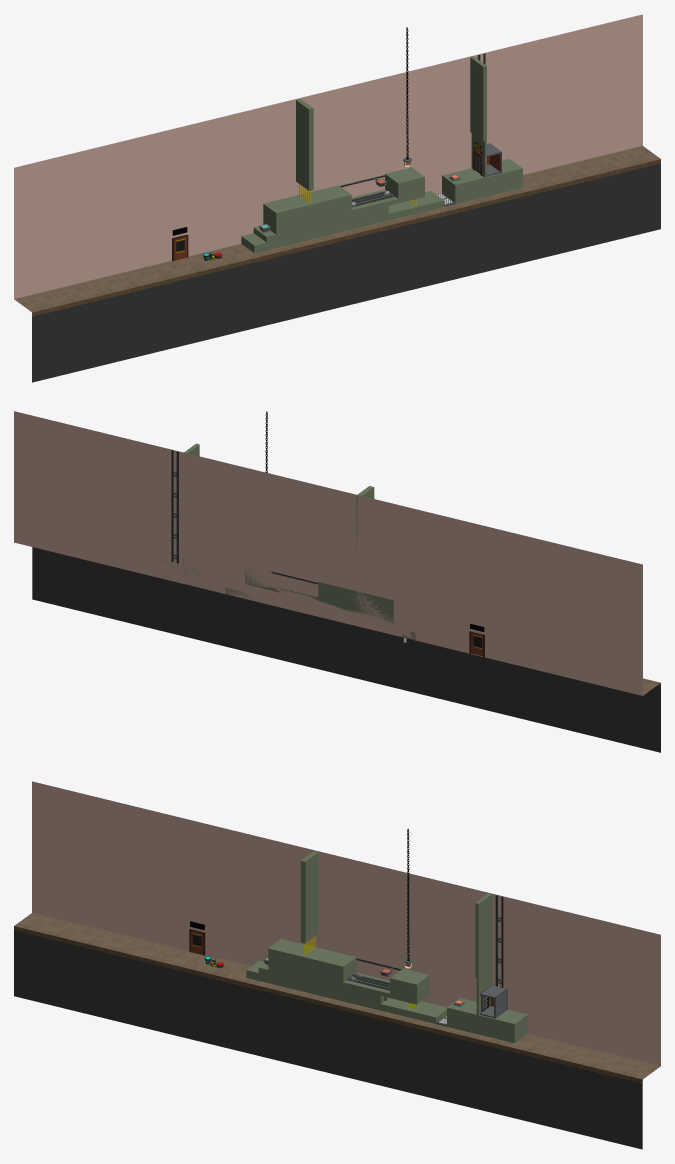
Rendered from level01 1.fbx.
3 views of the same model, one above another, from view 1: azimuth 30°, elevation 25°; view 2: azimuth 150°, elevation 25°; view 3: azimuth 330°, elevation 25° (orthographic).
Visible parts, largest first — view 1: polySurface706, polySurface709, polySurface710, platform, platform2, platform1, platform3; view 2: polySurface706, polySurface709, platform; view 3: polySurface706, polySurface709, polySurface710, platform, platform2, platform1, platform3, polySurface590.
Boxes of the visible parts, x1,y1,x2,y2 form: polySurface706: (14, 14, 642, 298); polySurface709: (32, 159, 660, 382); polySurface710: (14, 146, 660, 312); platform: (241, 167, 444, 253); platform2: (442, 159, 522, 204); platform1: (470, 56, 486, 177); platform3: (296, 99, 313, 190); polySurface706: (14, 411, 642, 695); polySurface709: (32, 547, 660, 752); platform: (225, 566, 415, 640); polySurface706: (32, 781, 660, 1065); polySurface709: (14, 926, 642, 1149); polySurface710: (14, 913, 660, 1079); platform: (246, 939, 446, 1023); platform2: (447, 998, 527, 1043); platform1: (475, 893, 491, 1015); platform3: (300, 851, 318, 942); polySurface590: (480, 985, 507, 1018).
Bounding box in the file's own units: 9166 × 3544 × 466.
